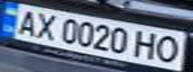0: (54, 16, 81, 45), (109, 25, 133, 56), (75, 19, 96, 48)
2: (90, 21, 112, 53)
A: (9, 7, 42, 37)
H: (130, 29, 163, 61)
O: (151, 34, 184, 64)
X: (30, 10, 60, 42)
